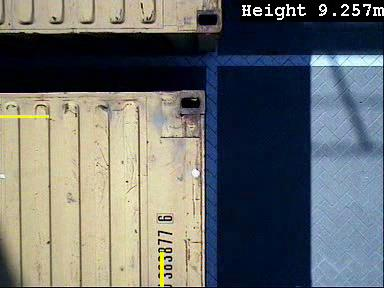groundmarker_2: (23, 122, 158, 203)
